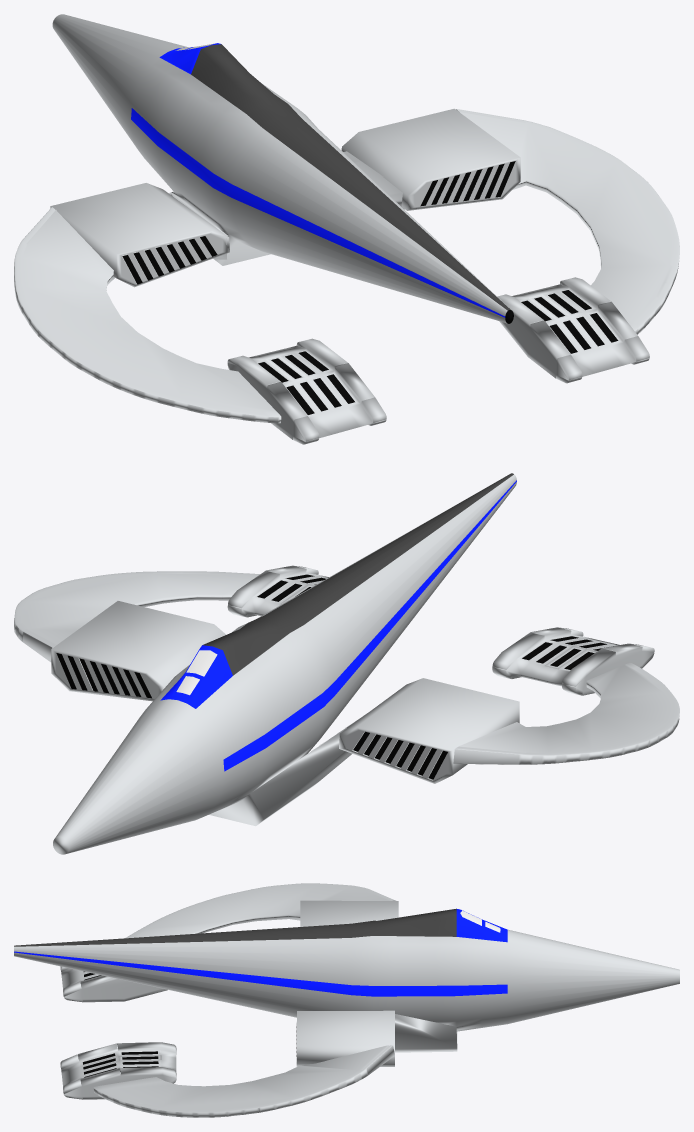
The model's file is Protector_10_changed_material_wing.glb.
The picture shows the model from 3 angles, top to bottom: view 1: azimuth 30°, elevation 25°; view 2: azimuth 150°, elevation 25°; view 3: azimuth 270°, elevation 25°; orthographic projection. The views are drawn at different scales.
Visible parts, largest first — view 1: hull, left wing, right wing, right_front_engine, left_front_engine, right engine cube, right engine cube.001; view 2: hull, left wing, left_front_engine, right_front_engine, right wing, right engine cube.001, right engine cube; view 3: hull, right wing, left wing, right_front_engine, right engine cube, right engine cube.001, left_front_engine.
Boxes of the visible parts, x1,y1,x2,y2 form: hull: (52, 14, 513, 323); left wing: (14, 207, 281, 423); right wing: (456, 109, 679, 334); right_front_engine: (341, 108, 520, 210); left_front_engine: (50, 183, 229, 287); right engine cube: (497, 277, 649, 383); right engine cube.001: (227, 338, 386, 444); hull: (53, 473, 516, 854); left wing: (453, 663, 679, 764); left_front_engine: (339, 678, 519, 783); right_front_engine: (51, 601, 225, 701); right wing: (14, 571, 259, 662); right engine cube.001: (492, 627, 654, 695); right engine cube: (227, 565, 328, 617); hull: (14, 908, 679, 1052); right wing: (93, 1045, 394, 1117); left wing: (125, 883, 395, 938); right_front_engine: (296, 1010, 394, 1066); right engine cube: (60, 1042, 176, 1099); right engine cube.001: (60, 966, 167, 1002); left_front_engine: (300, 900, 398, 926).
Bounding box in the file's own units: 3.95 × 1.05 × 5.05.
